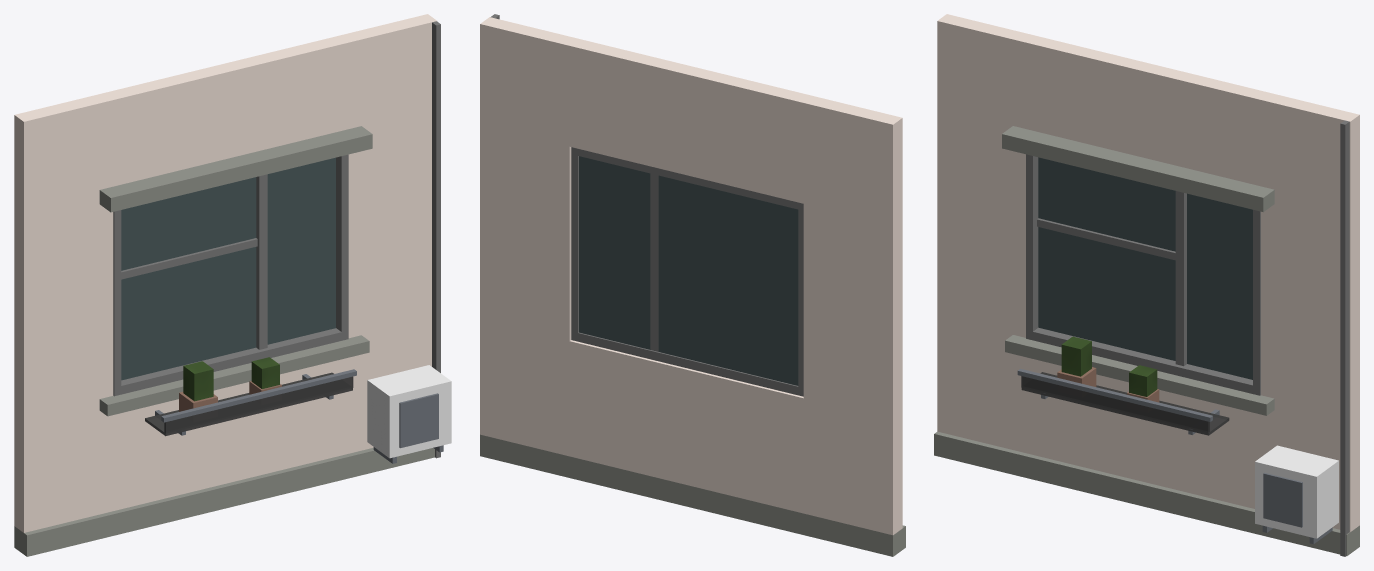
File: mid-w1.fbx
3 views of the same model, side by side, from view 1: azimuth 30°, elevation 25°; view 2: azimuth 150°, elevation 25°; view 3: azimuth 330°, elevation 25° (orthographic).
Parts seen in each view (by area): view 1: a2006_mid-w1; view 2: a2006_mid-w1; view 3: a2006_mid-w1.
Part boxes in pixels (box(x1,y1,x2,y2)): a2006_mid-w1: box(14, 14, 451, 556); a2006_mid-w1: box(480, 14, 905, 556); a2006_mid-w1: box(934, 14, 1359, 556).
Bounding box in the file's own units: 3 × 3 × 0.495.
